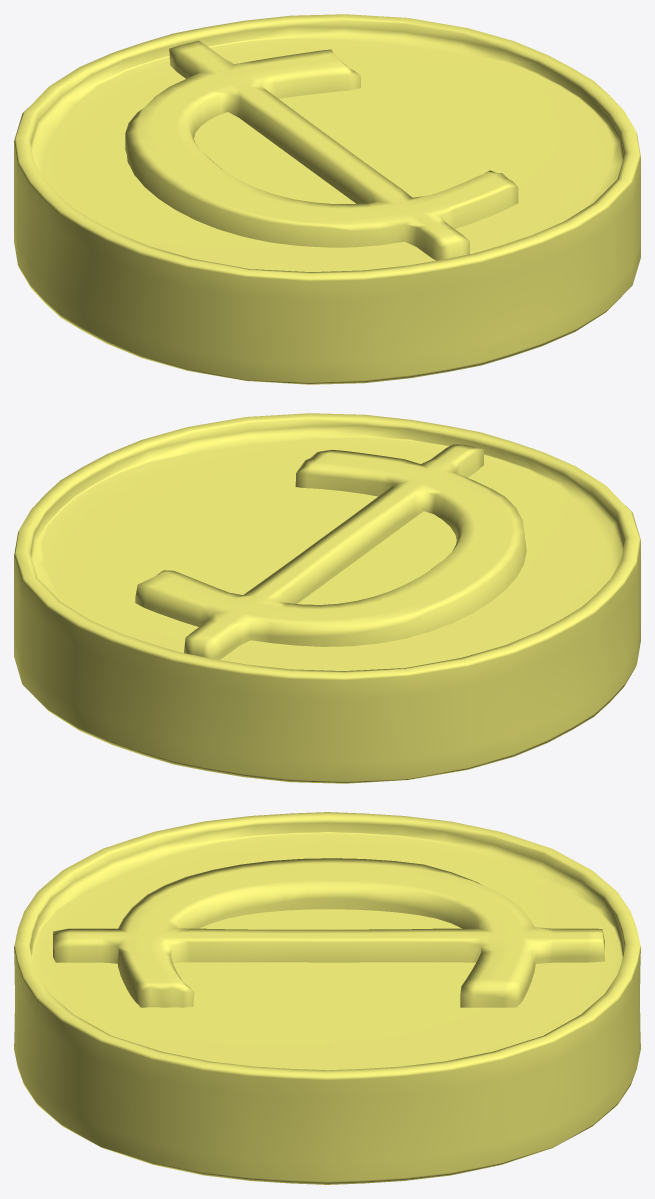
File: CollectableModel.fbx
3 views of the same model, one above another, from view 1: azimuth 30°, elevation 25°; view 2: azimuth 150°, elevation 25°; view 3: azimuth 270°, elevation 25° (orthographic).
Visible parts, largest first — view 1: typeMesh2; view 2: typeMesh2; view 3: typeMesh2.
Part boxes in pixels (x1,y1,x2,y2): typeMesh2: (14,14,640,384); typeMesh2: (14,413,640,783); typeMesh2: (14,812,640,1184).
Bounding box in the file's own units: 3.85 × 0.8031 × 3.85.
